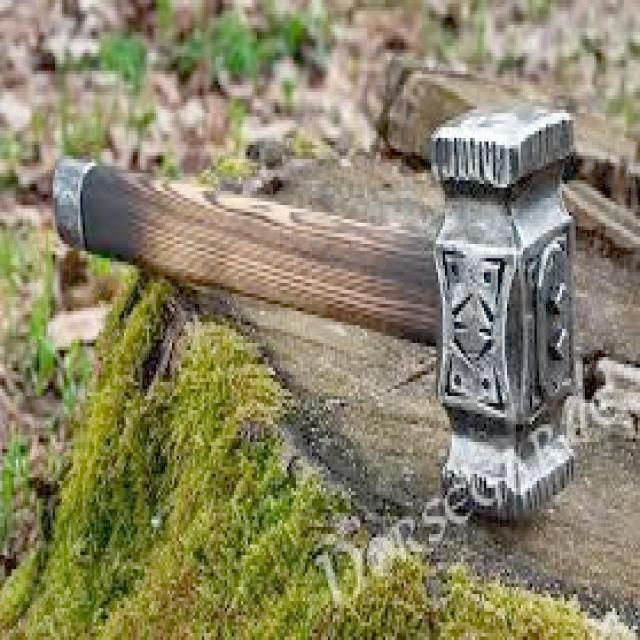hammer: (51, 93, 586, 540)
